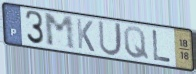3: (23, 10, 45, 47)
K: (75, 17, 96, 54)
L: (151, 28, 173, 64)
M: (43, 12, 78, 52)
Q: (122, 25, 151, 62)
U: (97, 19, 124, 58)
